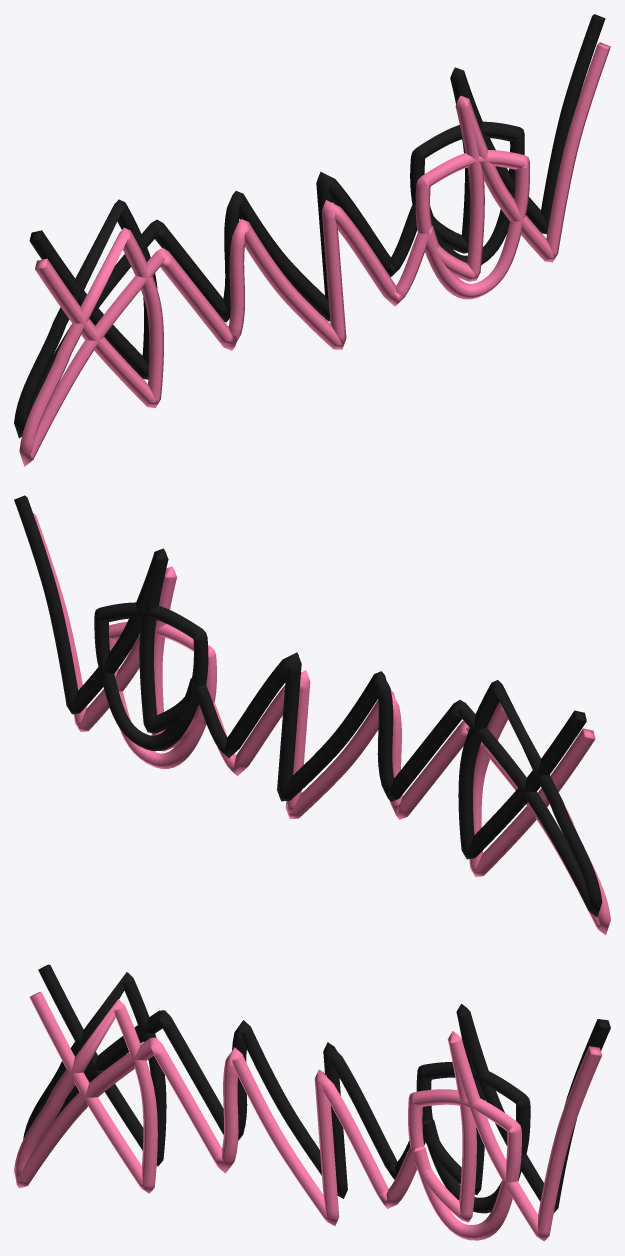
File: tag.glb
3 renders of one model, top to bottom at view 1: azimuth 30°, elevation 25°; view 2: azimuth 150°, elevation 25°; view 3: azimuth 330°, elevation 25°, orthographic.
Parts seen in each view (by area): view 1: Curve; view 2: Curve; view 3: Curve.
Boxes of the visible parts, bbox=[...] form: Curve: bbox=[14, 14, 610, 466]; Curve: bbox=[14, 495, 610, 935]; Curve: bbox=[14, 964, 610, 1241].
Bounding box in the file's own units: 4.84 × 2.38 × 0.2185.
